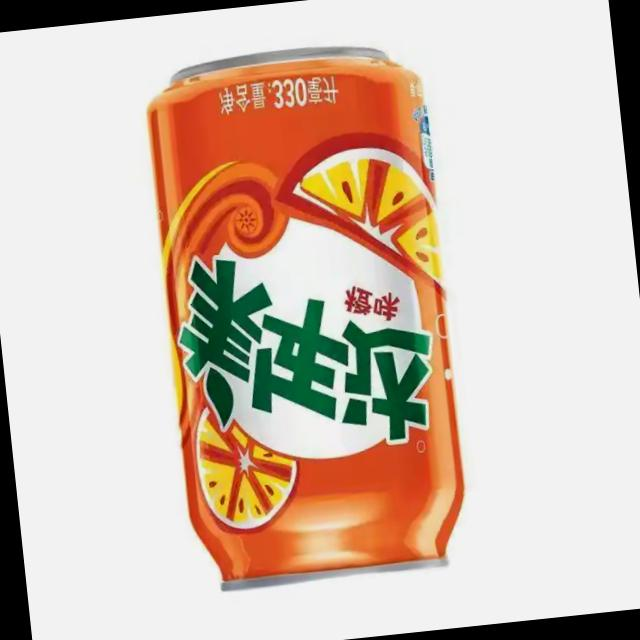can: (134, 29, 482, 601)
